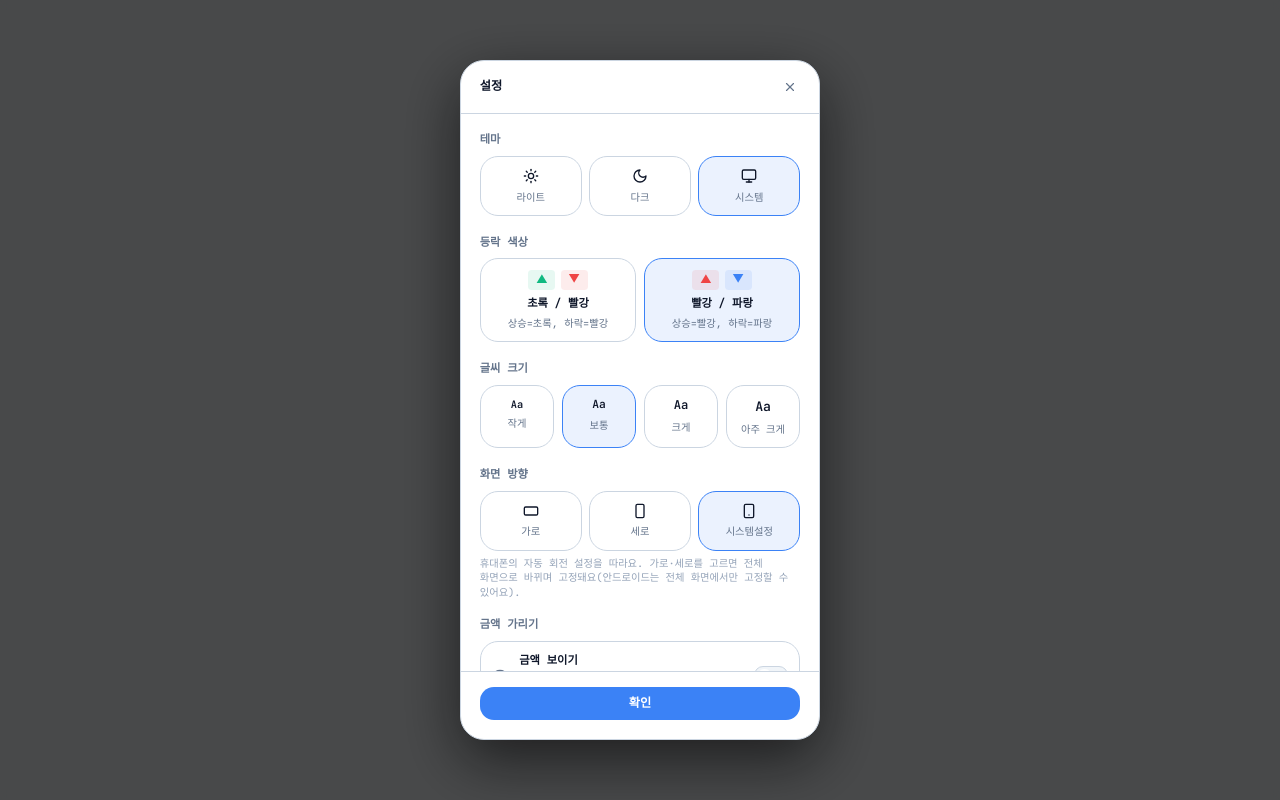
it: 안드로이드 › 거절당해도 같은 것을 다시 누르면 다시 건다
Click the button "가로" at (531, 521), box [480, 491, 582, 551]
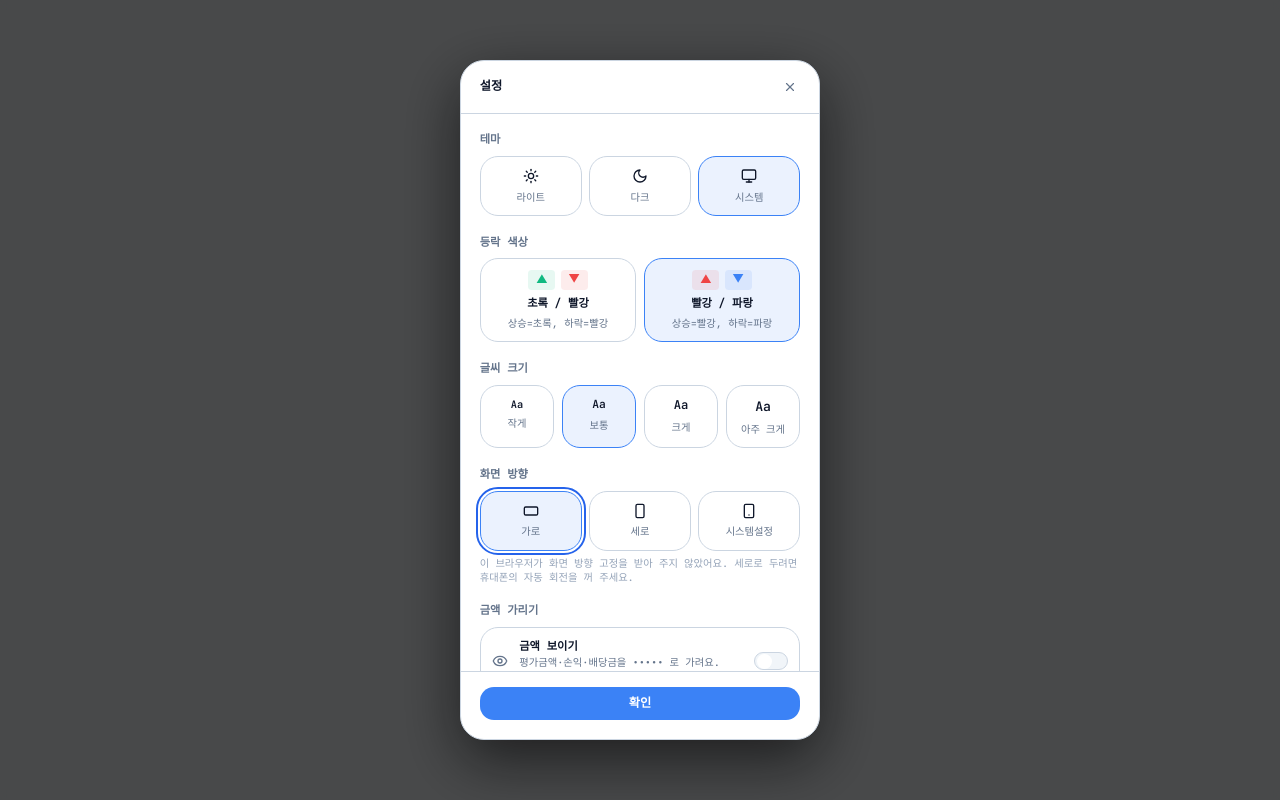
Result: the message shows "받아 주지 않았어요" at [480, 556, 797, 584]
Click the button "가로" at (531, 521), box [480, 491, 582, 551]
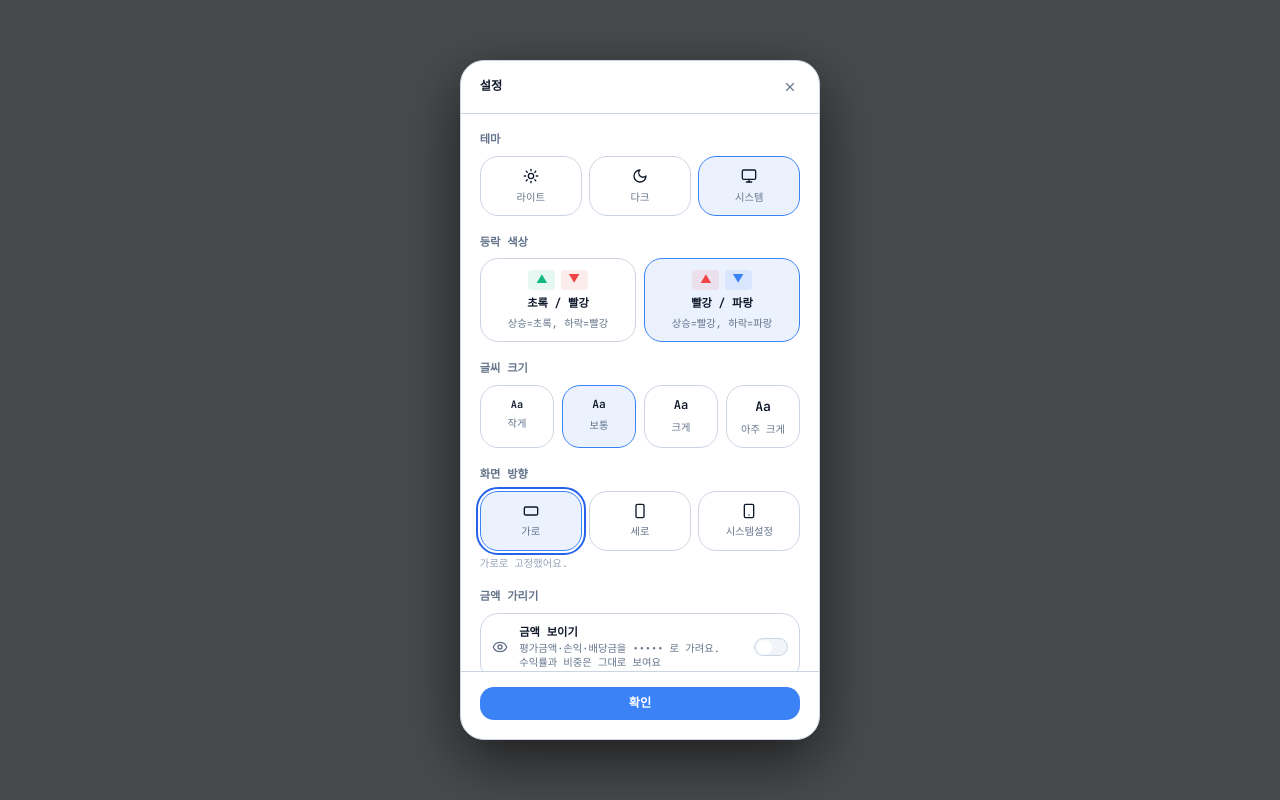
Result: the message reads "가로로 고정했어요." at [480, 556, 568, 570]
